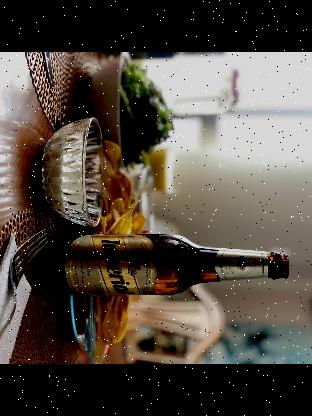Others: (38, 234, 288, 296)
